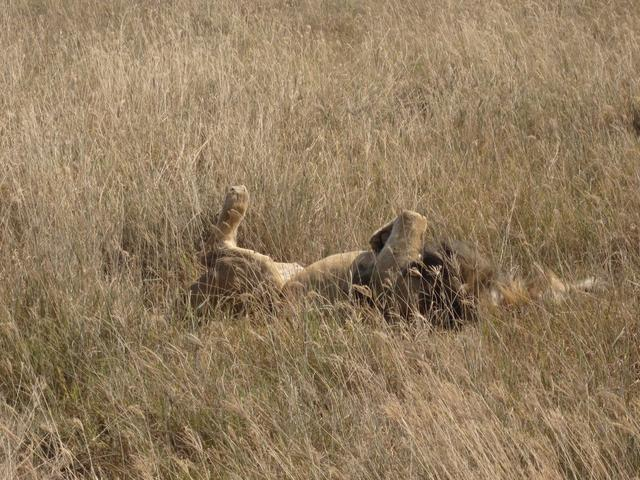lion: (110, 184, 611, 356)
